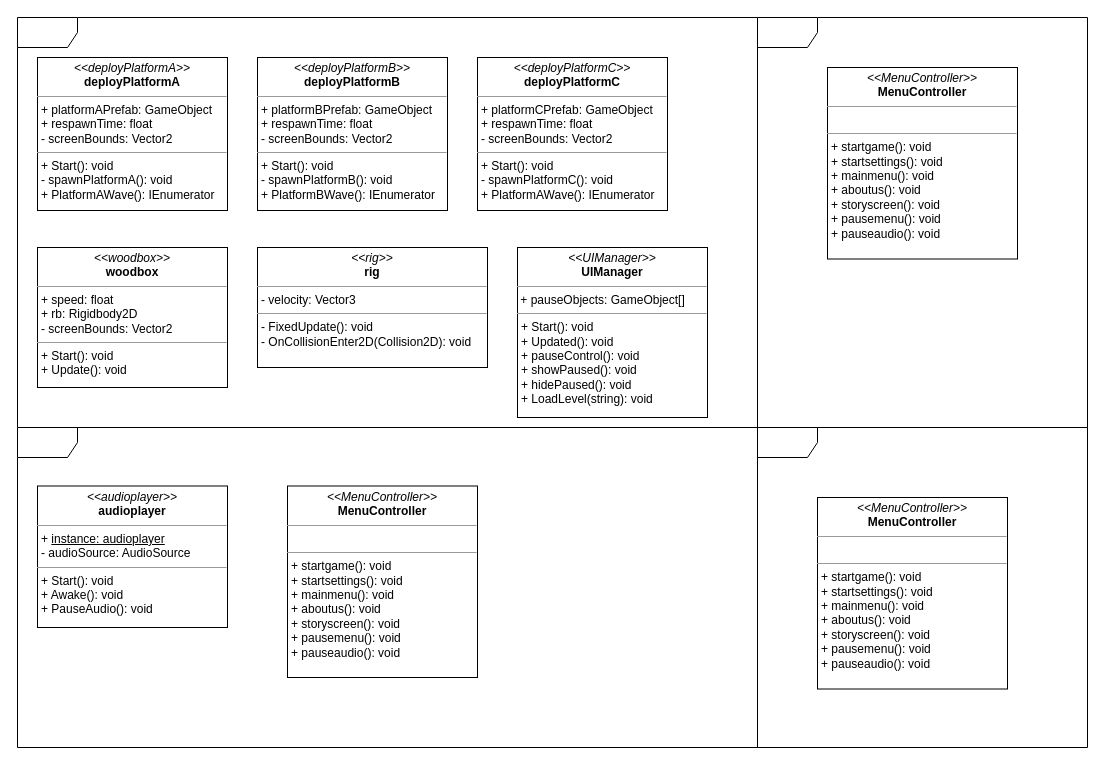
This 1105x765 diagram has some shape labels left out. The box of each missing label's shape, as (x1, y1, x2, y2) in pixels:
Main Scene: (16, 16, 758, 428)
Settings Scene: (756, 16, 1088, 428)
Start Scene: (16, 426, 758, 748)
Story Scene: (756, 426, 1088, 748)
